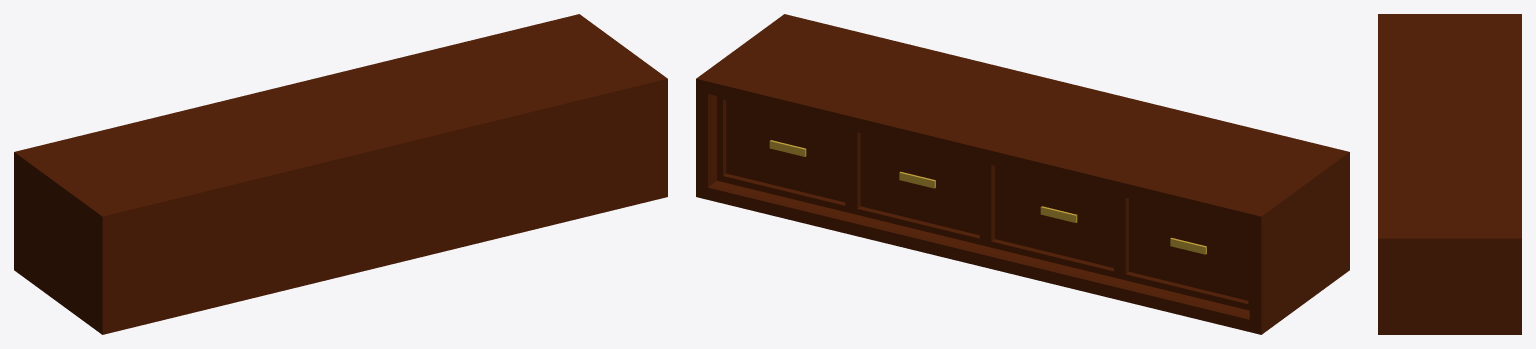
File: Blockout_TVCabinet_01 1.fbx
The picture shows the model from 3 angles, left to right: view 1: azimuth 30°, elevation 25°; view 2: azimuth 150°, elevation 25°; view 3: azimuth 270°, elevation 25°; orthographic projection. The views are drawn at different scales.
Visible parts, largest first — view 1: TV_Cabinet; view 2: TV_Cabinet; view 3: TV_Cabinet.
Boxes of the visible parts, x1=… form: TV_Cabinet: x1=14, y1=14, x2=667, y2=334; TV_Cabinet: x1=696, y1=14, x2=1349, y2=334; TV_Cabinet: x1=1378, y1=14, x2=1521, y2=334.
Bounding box in the file's own units: 240 × 48 × 65.
